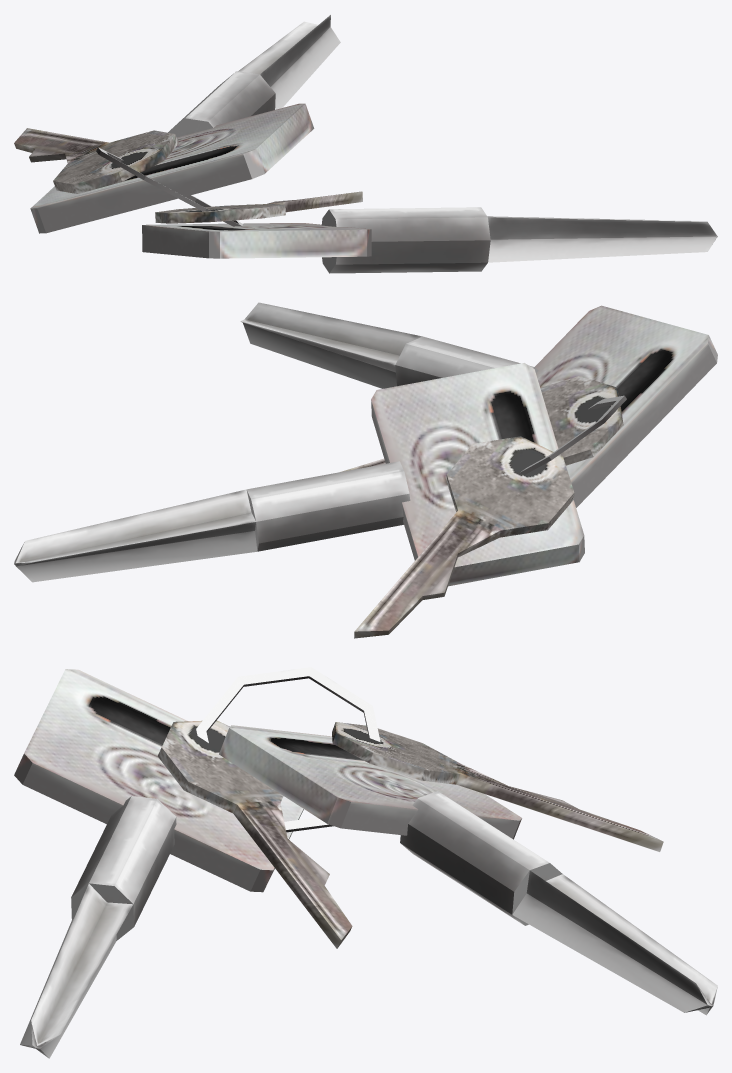
The model's file is CeSuo_01_yaoshi_01.FBX.
The picture shows the model from 3 angles, top to bottom: view 1: azimuth 30°, elevation 25°; view 2: azimuth 150°, elevation 25°; view 3: azimuth 270°, elevation 25°; orthographic projection. The views are drawn at different scales.
Visible parts, largest first — view 1: CeSuo_01_yaoshi_01; view 2: CeSuo_01_yaoshi_01; view 3: CeSuo_01_yaoshi_01.
Part boxes in pixels (x1,y1,x2,y2): CeSuo_01_yaoshi_01: (14, 15, 717, 273); CeSuo_01_yaoshi_01: (14, 302, 717, 638); CeSuo_01_yaoshi_01: (14, 667, 717, 1058).
Size of the model in its own units: 50.16 by 12.07 by 54.94.
